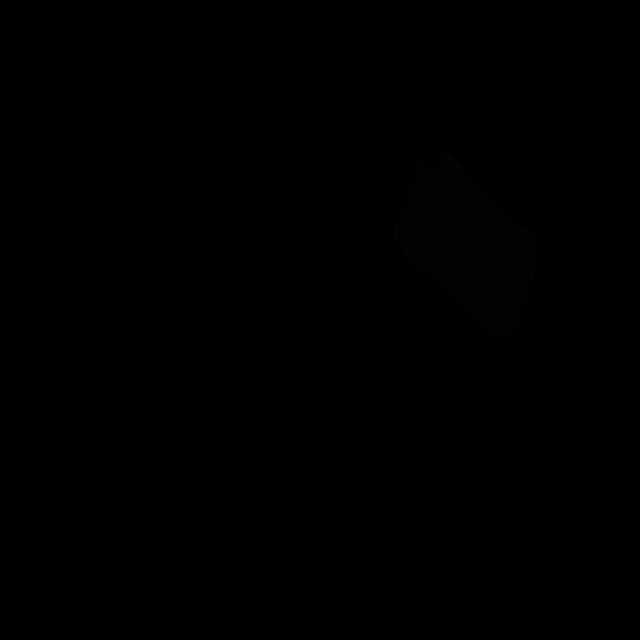cardboard: (392, 148, 538, 339)
